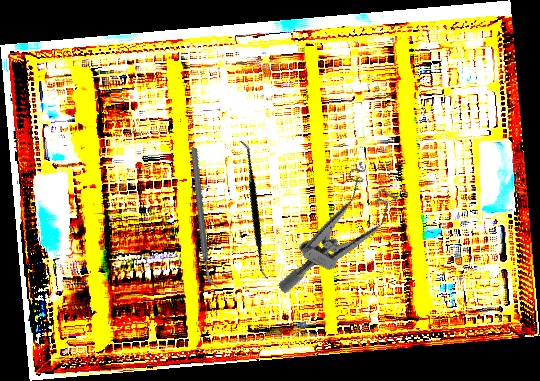Chopper: (153, 146, 255, 289)
Spatula Surgical: (185, 139, 322, 281)
Speculum: (276, 153, 406, 320)
